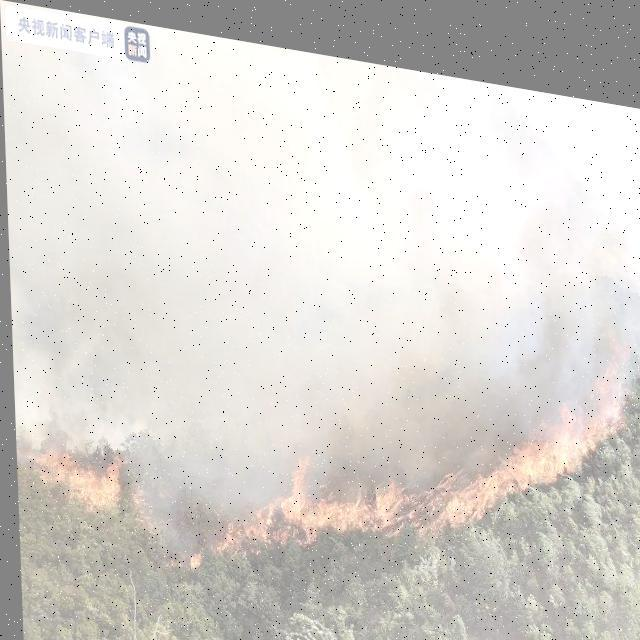Fire: (180, 246, 636, 615), (21, 426, 132, 528)
